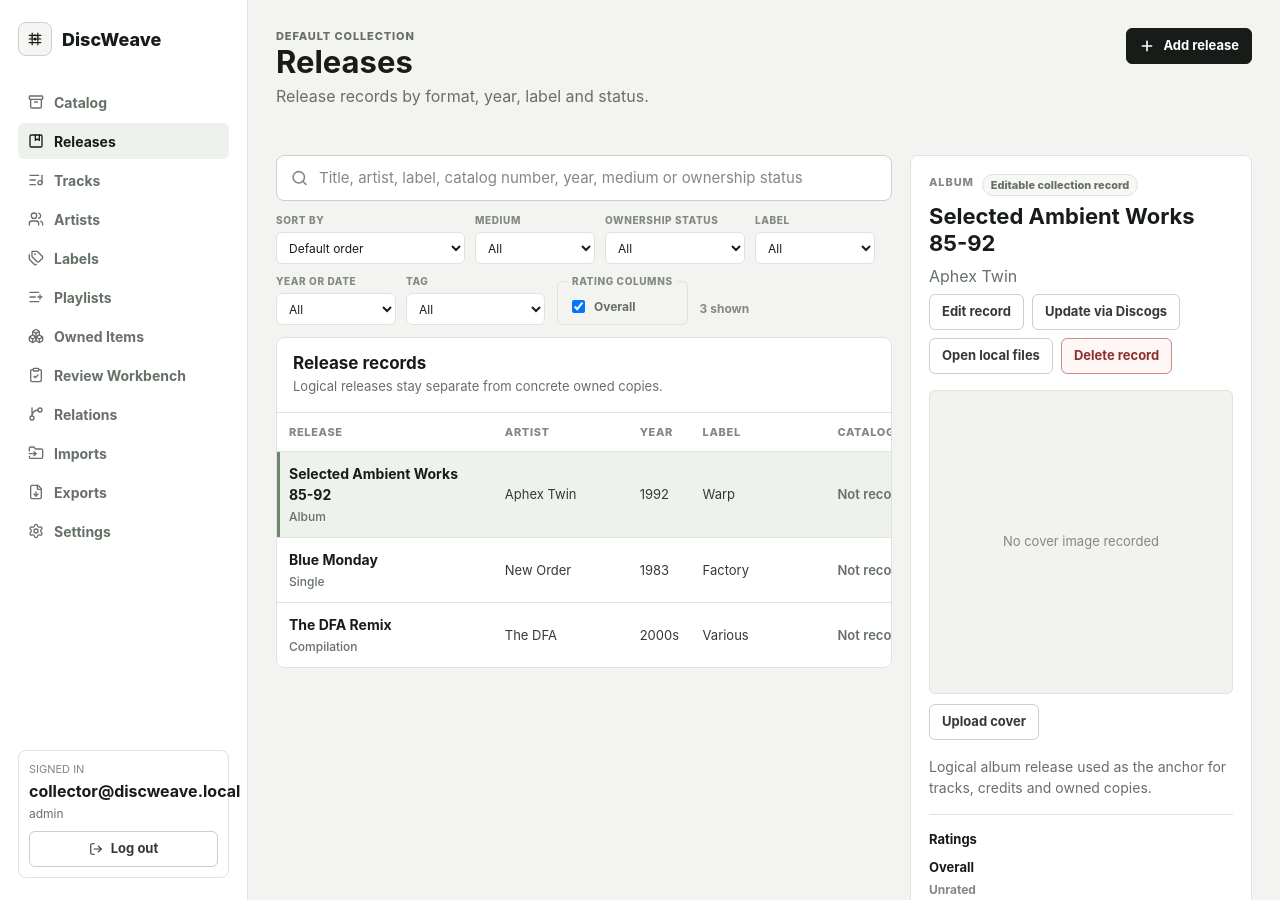
App local file open › shows release local files with per-file open actions and no Open all
What coordinates should you click on to do the following:
click the button "Open local files"
I would click on:
 (991, 356)
Its box is [929,338,1053,374].
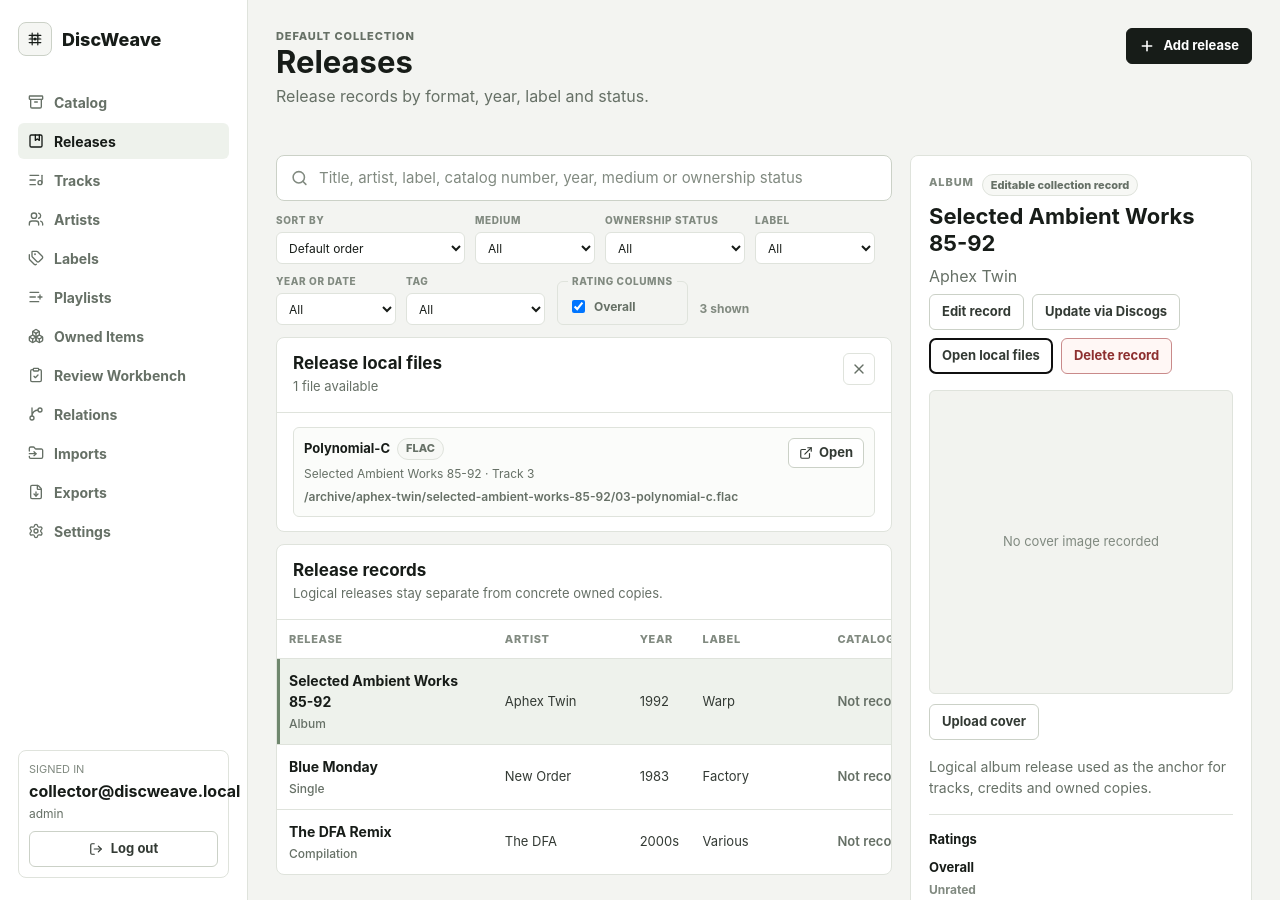
Now the text "Polynomial-C" is shown, box [304,439,390,459]
Now the text "/archive/aphex-twin/selected-ambient-works-85-92/03-polynomial-c.flac" is shown, box [304,488,776,506]
